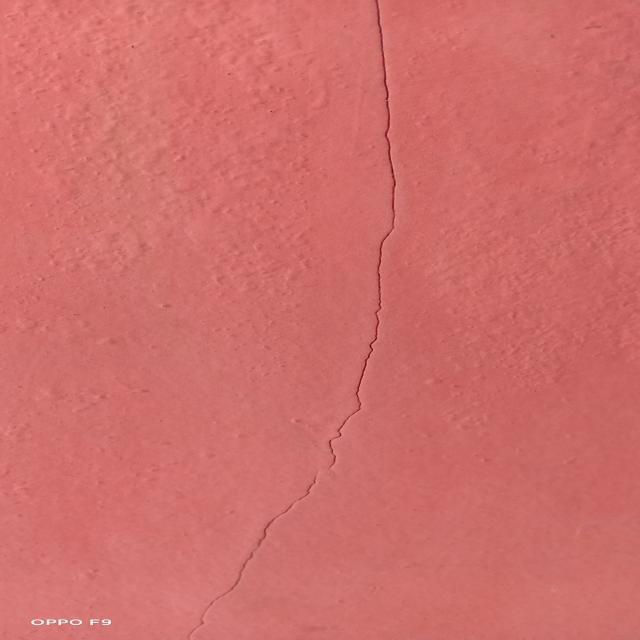Crack: (332, 1, 455, 112), (347, 133, 442, 235), (294, 408, 356, 528), (352, 256, 403, 390), (206, 526, 268, 633)
